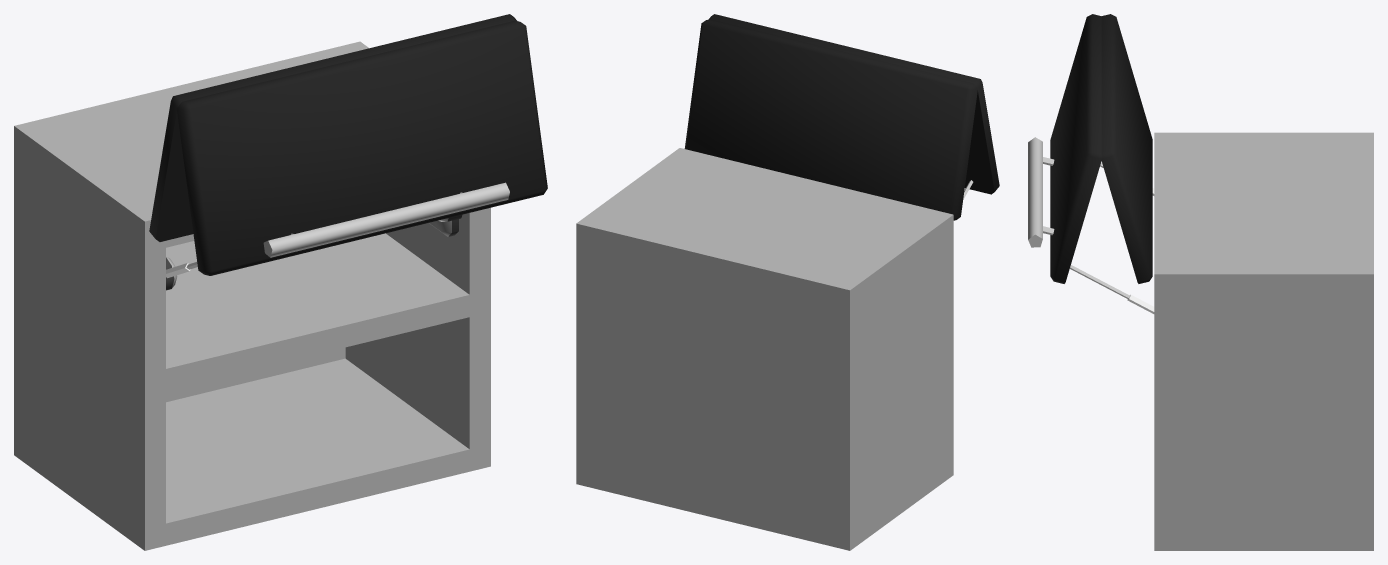
File: kitchen_061.fbx
3 renders of one model, left to right at view 1: azimuth 30°, elevation 25°; view 2: azimuth 150°, elevation 25°; view 3: azimuth 270°, elevation 25°, orthographic. The views are drawn at different scales.
Parts seen in each view (by area): view 1: kitchen_061; view 2: kitchen_061; view 3: kitchen_061.
Boxes of the visible parts, x1,y1,x2,y2 form: kitchen_061: (14, 14, 547, 550); kitchen_061: (576, 14, 999, 550); kitchen_061: (1028, 14, 1373, 550).
Size of the model in its own units: 94.84 by 97.73 by 124.
